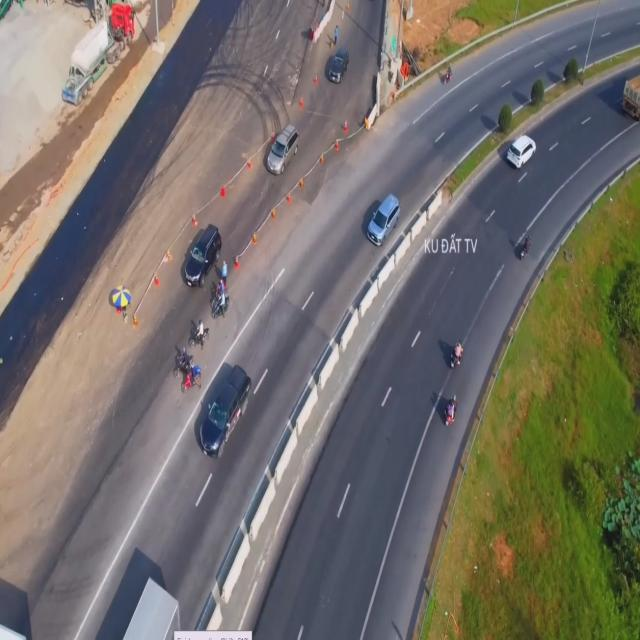car: (197, 362, 254, 458), (183, 220, 222, 295), (267, 120, 299, 178), (366, 192, 398, 247), (326, 45, 351, 87), (508, 136, 536, 169)
motorbike: (179, 365, 200, 396), (189, 324, 210, 351), (442, 400, 460, 428), (212, 292, 230, 318), (451, 342, 464, 370), (516, 237, 528, 263)
